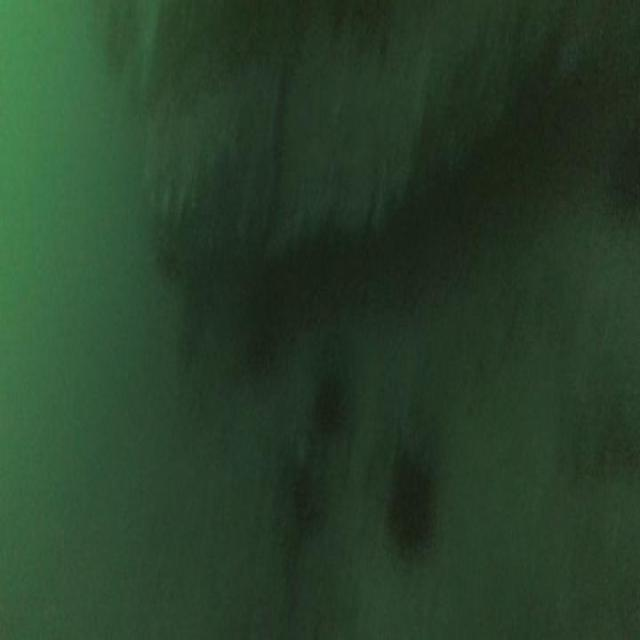echinus: (379, 446, 439, 561), (306, 365, 349, 443)
